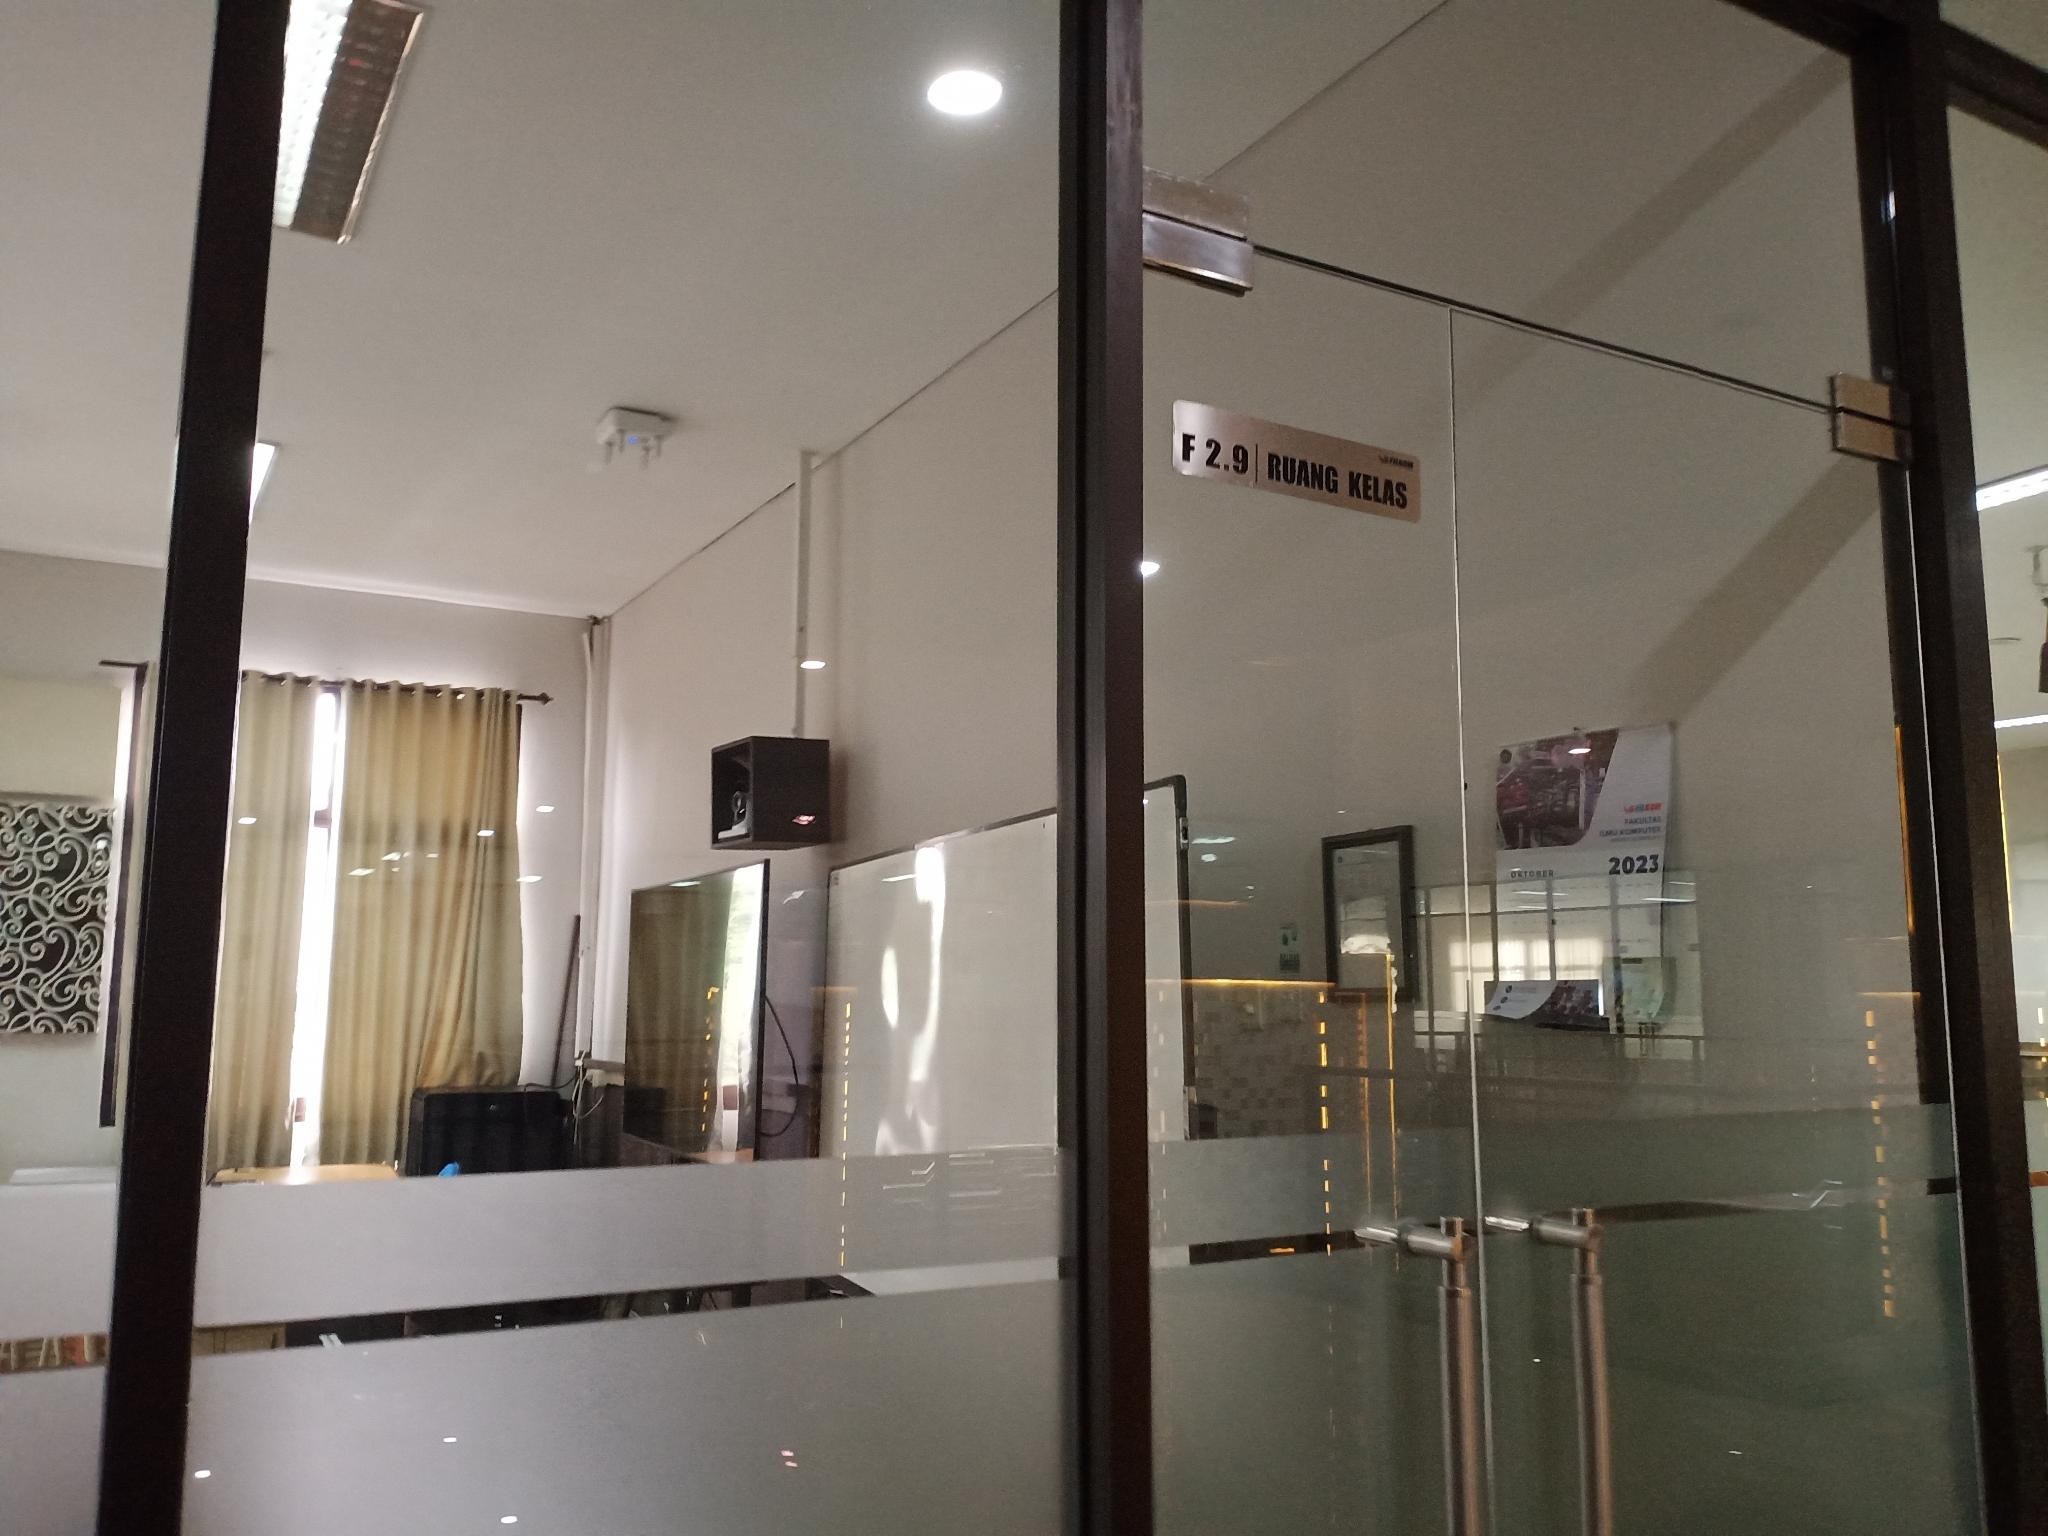plate: (1169, 394, 1424, 526)
